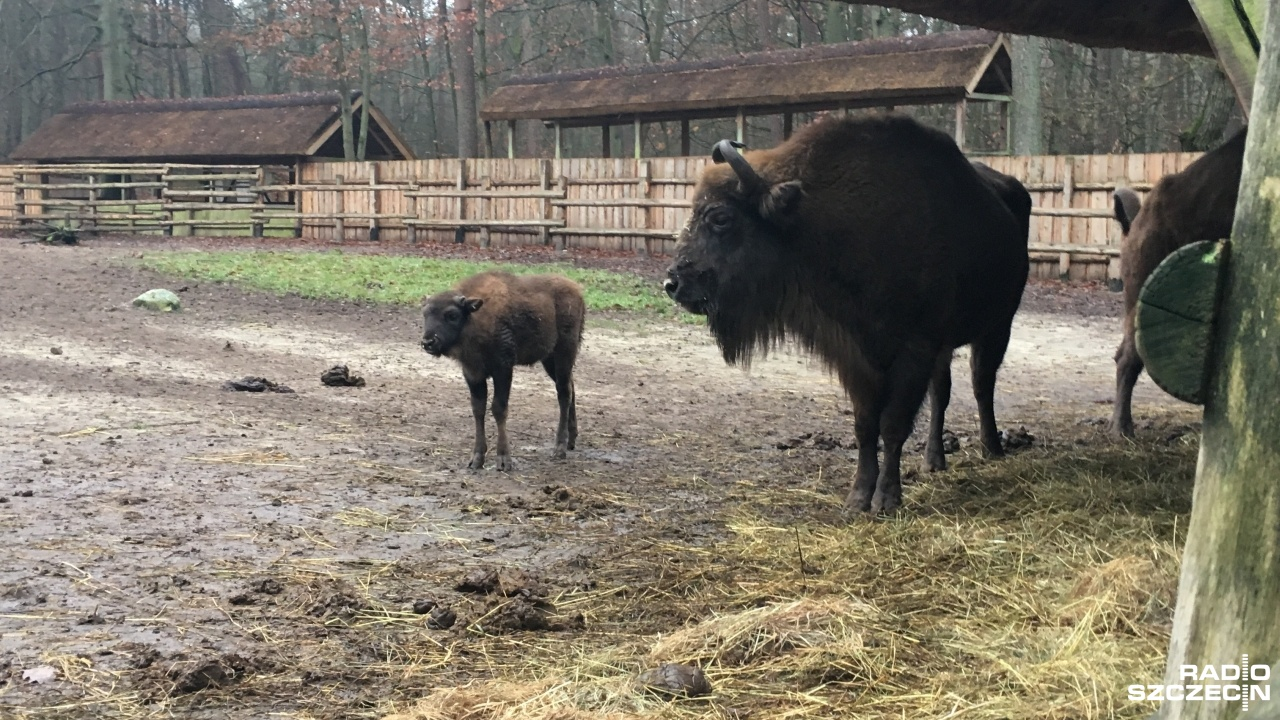zubr: (634, 78, 1065, 542), (384, 252, 648, 487)
